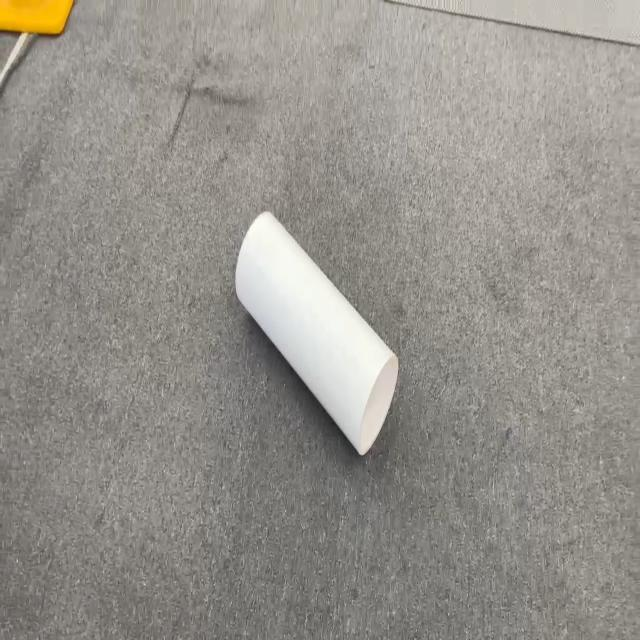coral: (234, 209, 399, 457)
